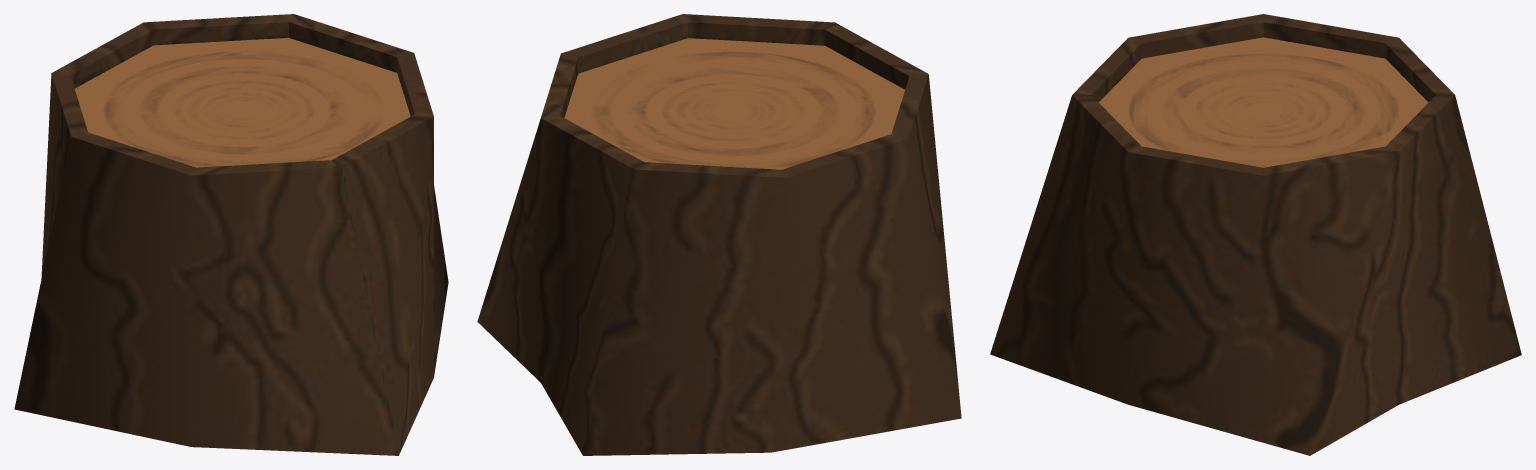
File: Stump.FBX
3 views of the same model, side by side, from view 1: azimuth 30°, elevation 25°; view 2: azimuth 150°, elevation 25°; view 3: azimuth 270°, elevation 25° (orthographic). The views are drawn at different scales.
Parts seen in each view (by area): view 1: Object004; view 2: Object004; view 3: Object004.
Boxes of the visible parts, x1,y1,x2,y2 form: Object004: [14, 14, 448, 455]; Object004: [477, 14, 961, 455]; Object004: [990, 14, 1521, 455].
Bounding box in the file's own units: 71.95 × 39.39 × 75.17.
